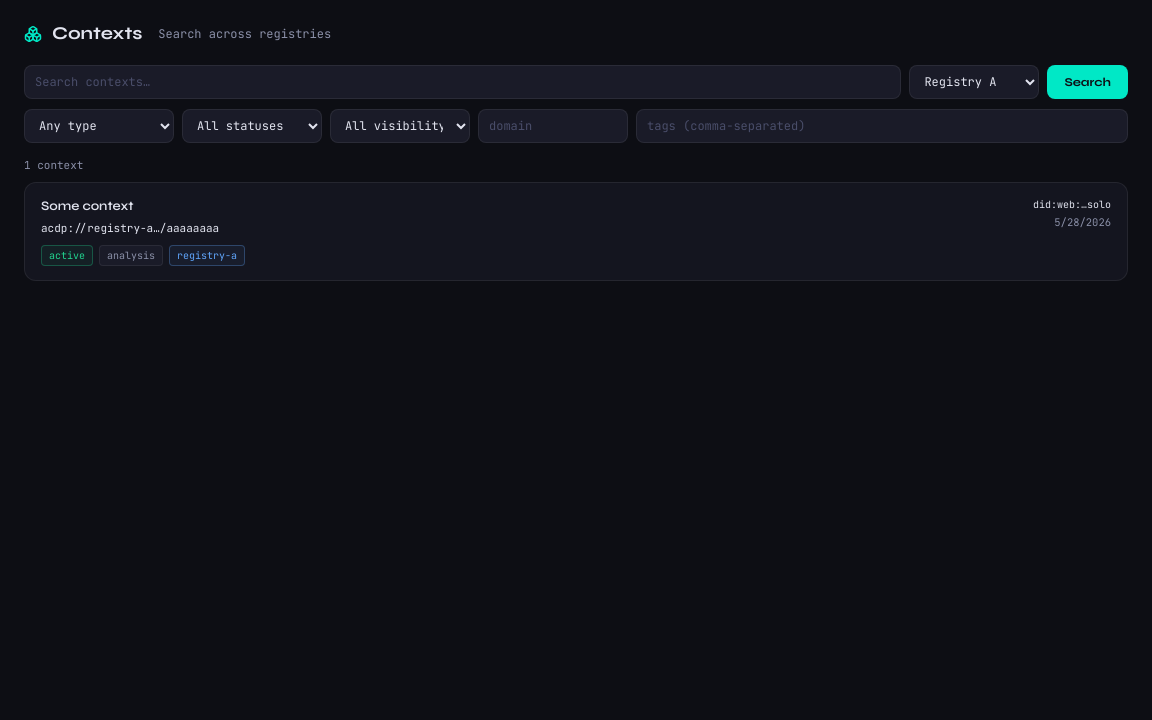
/contexts — a search hit whose body cannot be fetched › DISCRIMINATES: a real transport failure still reads as a failure
Click the text "Some context".
click(87, 206)  # box [41,198,134,214]
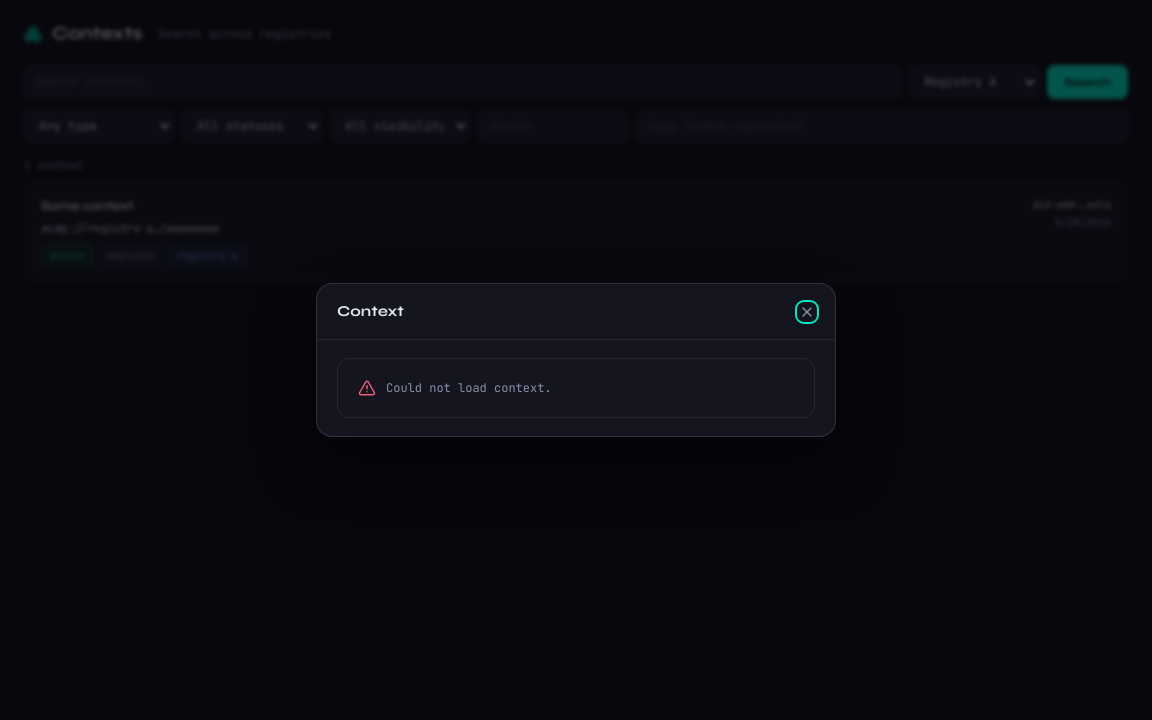
Expected: the text "Could not load context." is shown, [386,379,552,397]
